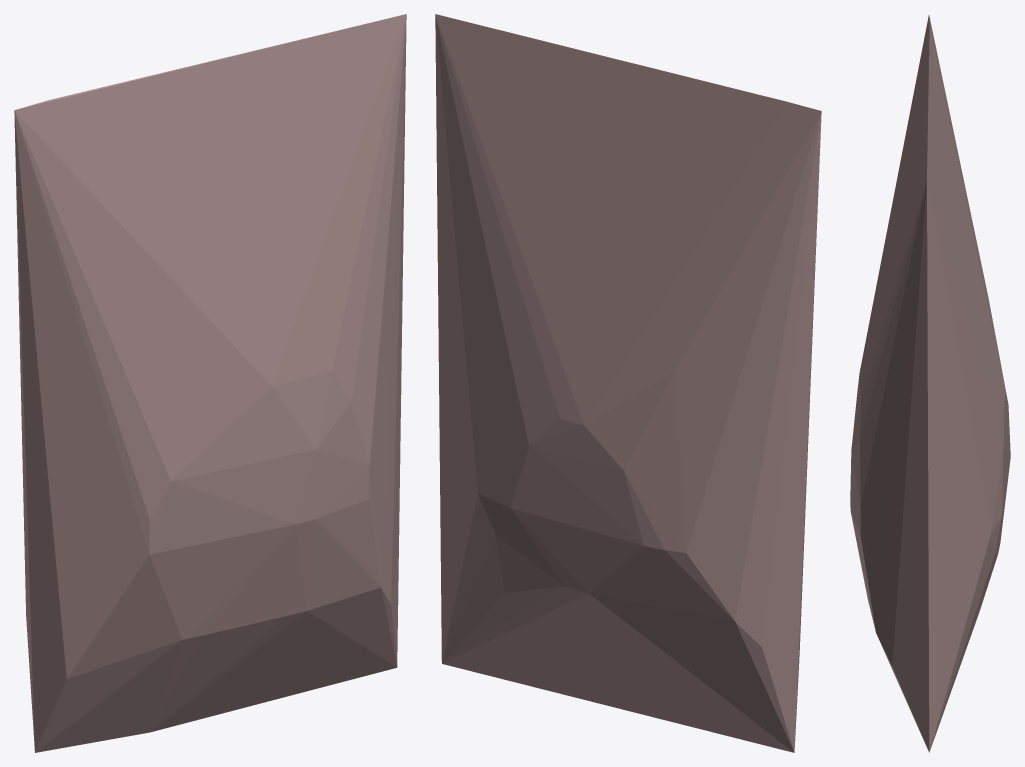
The model's file is food_processed_chips_m01.glb.
3 renders of one model, left to right at view 1: azimuth 30°, elevation 25°; view 2: azimuth 150°, elevation 25°; view 3: azimuth 270°, elevation 25°, orthographic. The views are drawn at different scales.
Parts seen in each view (by area): view 1: geometry_0; view 2: geometry_0; view 3: geometry_0.
Part boxes in pixels (left/top/right/bottom): geometry_0: left=14, top=14, right=406, bottom=752; geometry_0: left=435, top=14, right=821, bottom=752; geometry_0: left=850, top=15, right=1010, bottom=752.
Bounding box in the file's own units: 0.3005 × 0.4794 × 0.1212.
